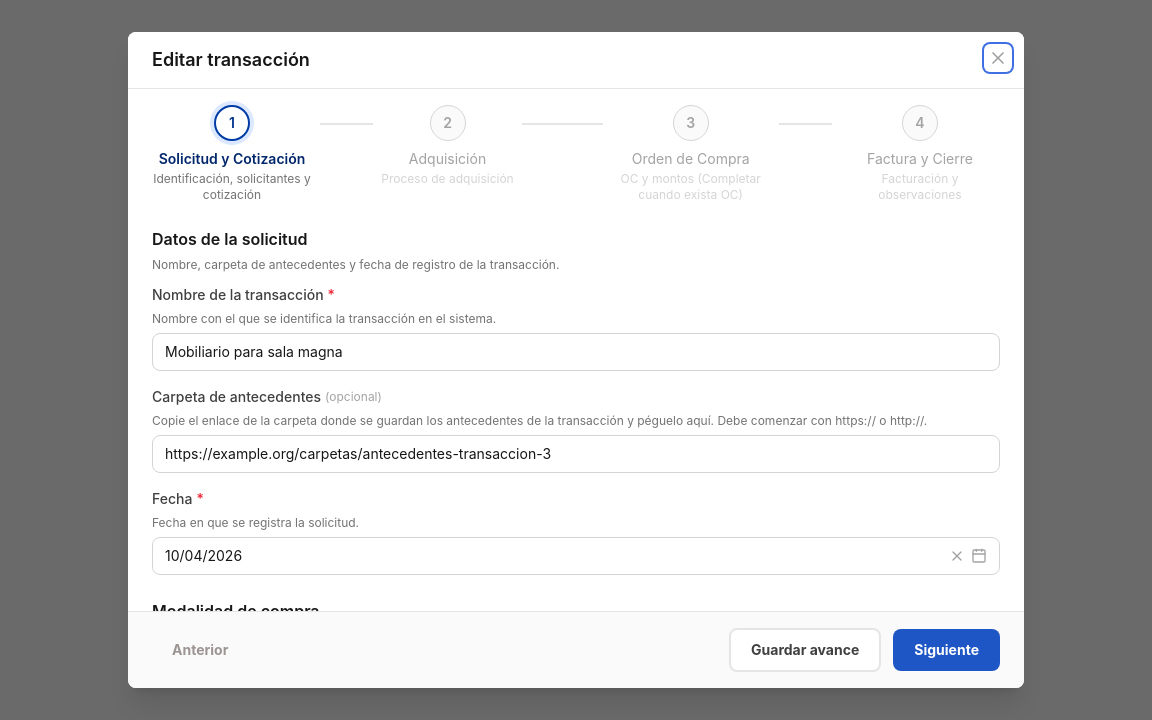
Test: TransaccionEditModal en el paso Adquisición › deshace el ultimo paso con un motivo y vuelve a ofrecer ese paso
Click the button named "Paso 2: Adquisición" at x=448, y=123, box 430,105 -> 466,141
(page scrolled)
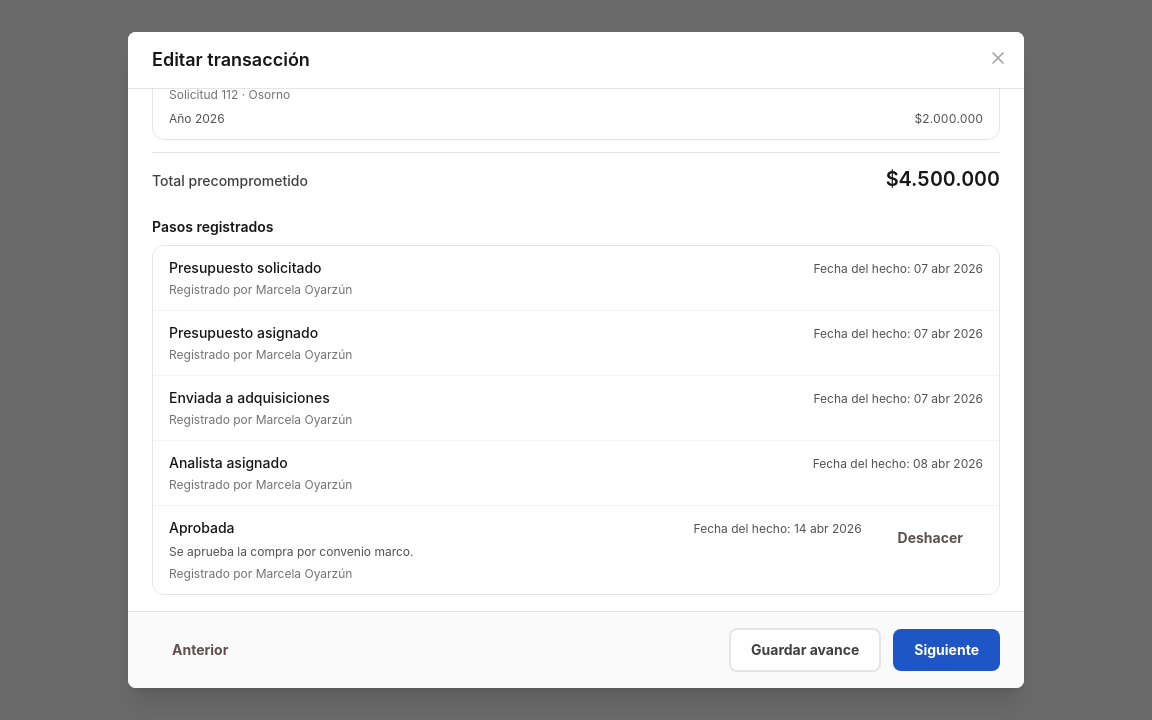
Click the button "Deshacer" at x=930, y=538, box 878,518 -> 983,558
(page scrolled)
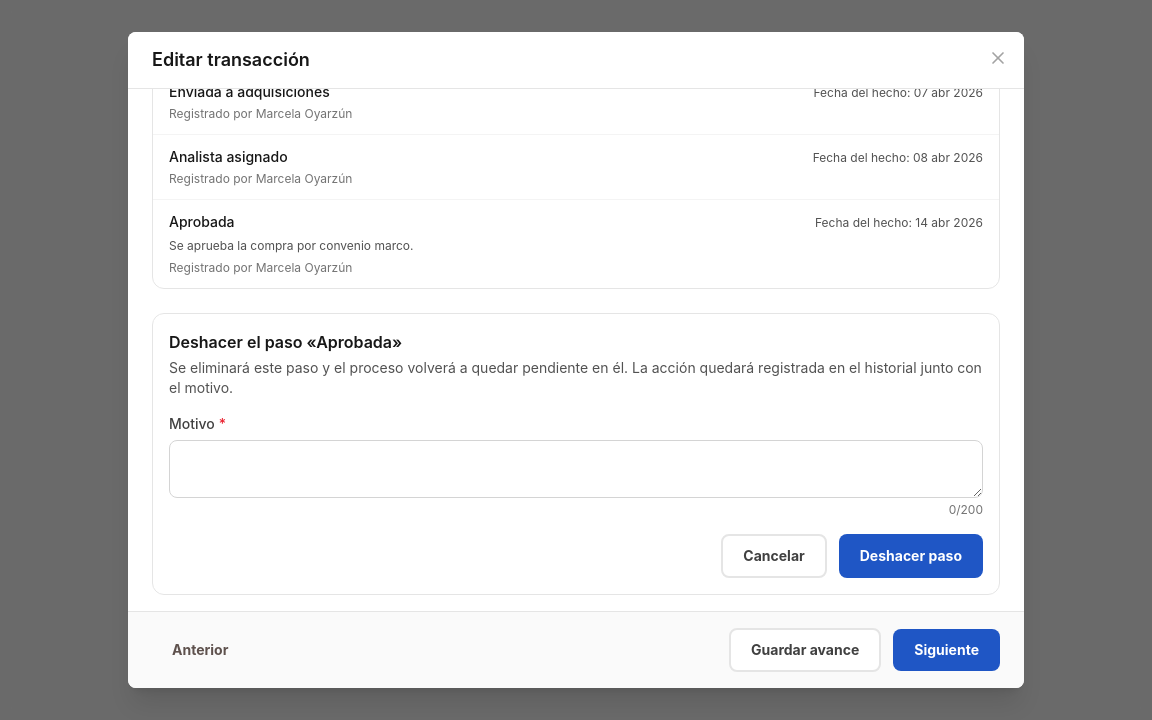
Click the button "Deshacer paso" at x=911, y=556, box 839,534 -> 983,578
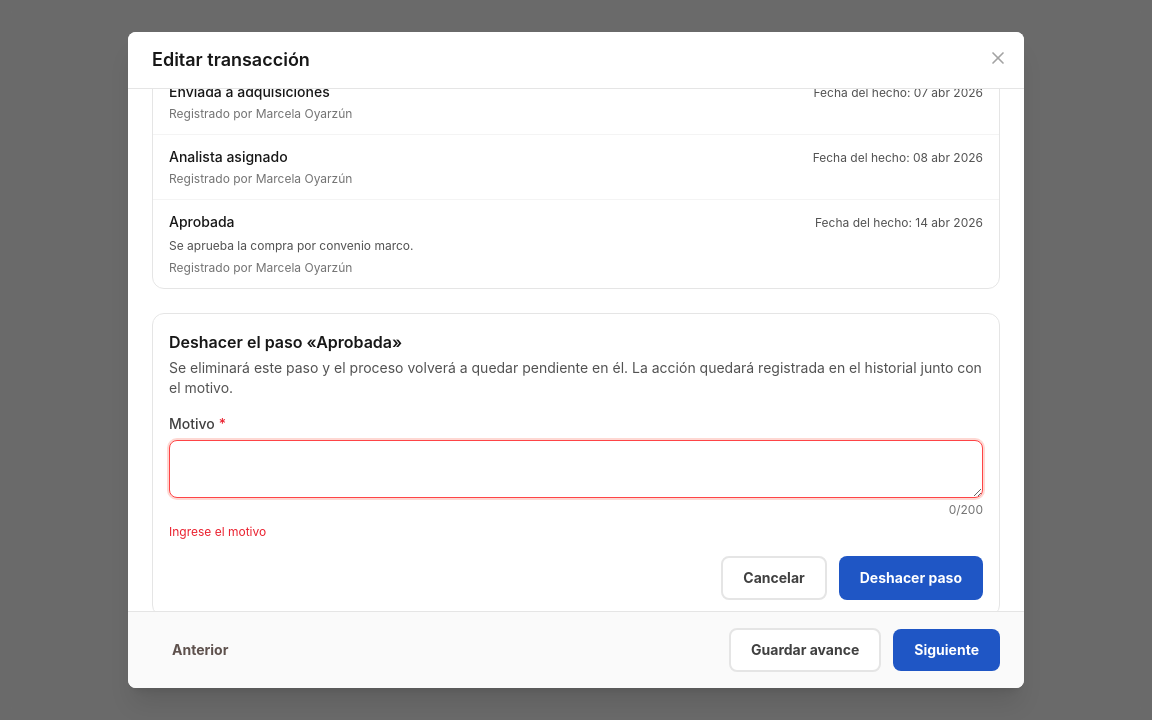
Result: the text "Ingrese el motivo" is shown at 169,524 -> 266,538
Type "Se registró por error." into the text box labelled "Motivo *" at x=576, y=468, box 169,440 -> 983,498
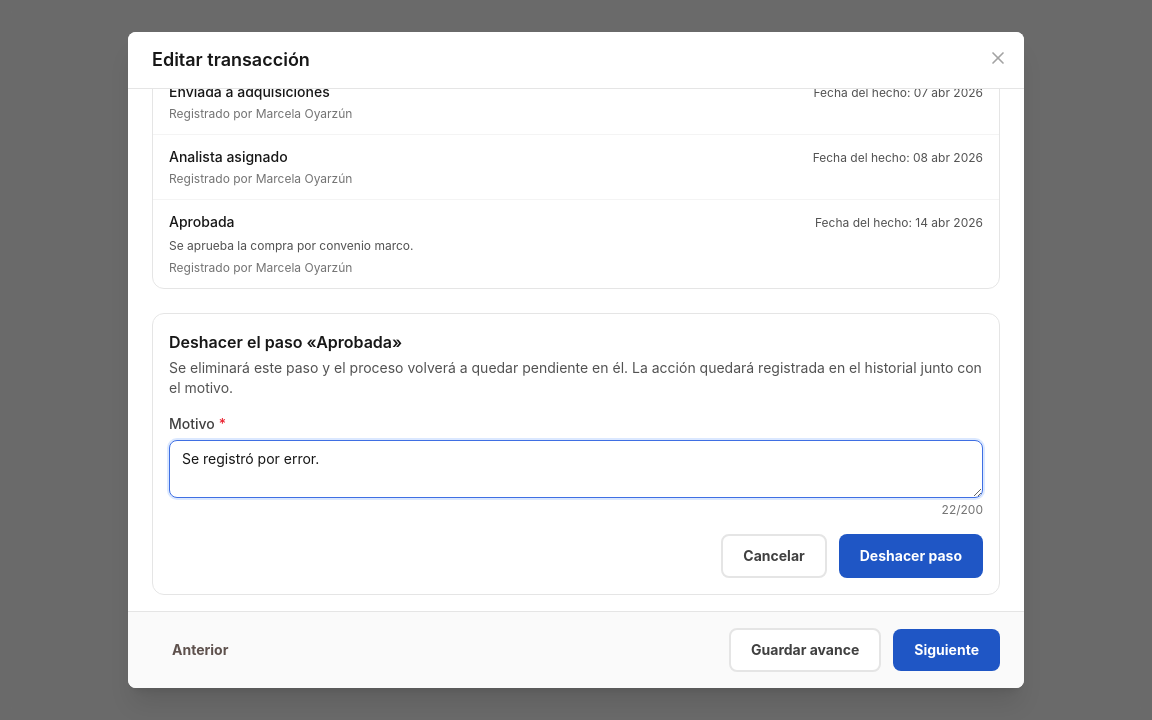
Click the button "Deshacer paso" at x=911, y=556, box 839,534 -> 983,578
(page scrolled)
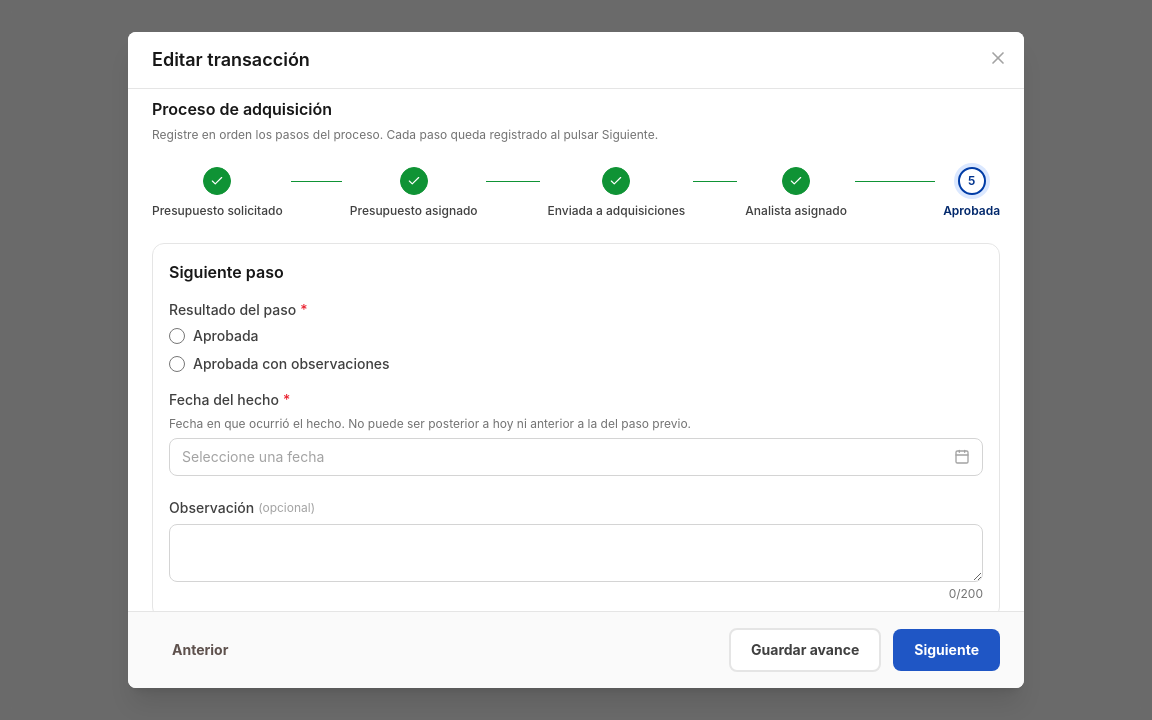
Result: the element named "Resultado del paso" is shown at 169,327 -> 390,372
